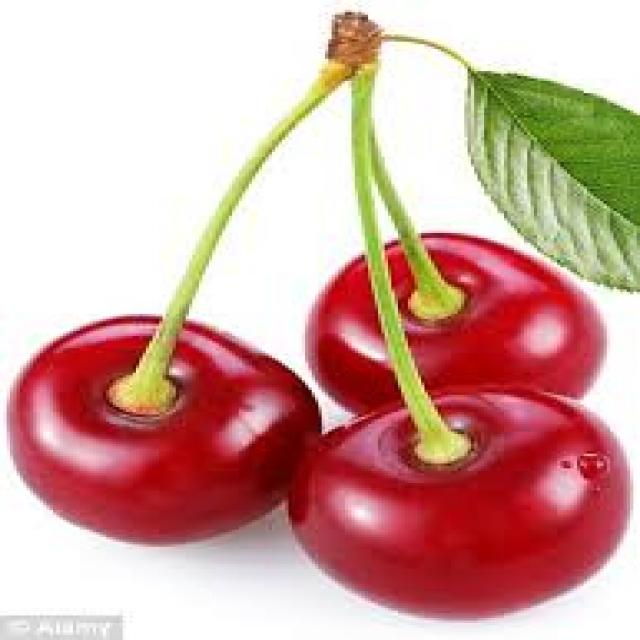organic waste: (282, 382, 627, 618), (3, 311, 322, 542), (305, 230, 600, 410), (461, 66, 637, 290)
